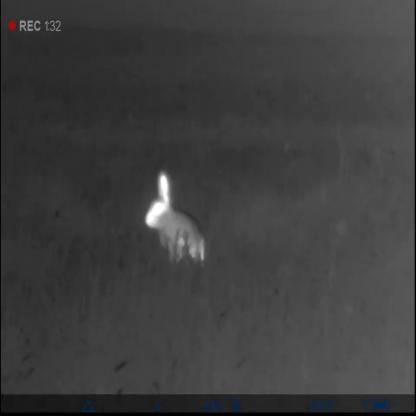rehkitze: (145, 170, 209, 264)
